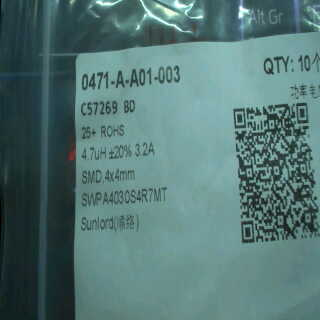4.7uH: (80, 147, 107, 163)
